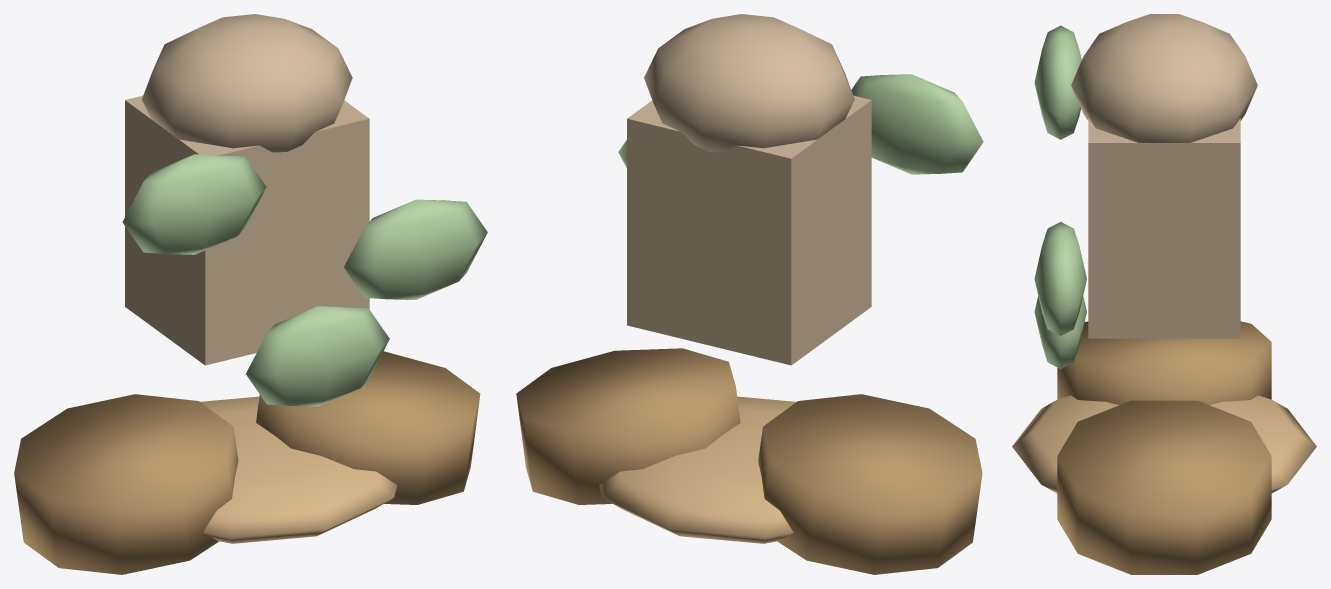
Rendered from stone_fist_young.fbx.
3 renders of one model, left to right at view 1: azimuth 30°, elevation 25°; view 2: azimuth 150°, elevation 25°; view 3: azimuth 270°, elevation 25°, orthographic. The views are drawn at different scales.
Parts seen in each view (by area): view 1: PLQ_stone_fist_young; view 2: PLQ_stone_fist_young; view 3: PLQ_stone_fist_young.
Boxes of the visible parts, x1=… form: PLQ_stone_fist_young: x1=14, y1=14, x2=487, y2=574; PLQ_stone_fist_young: x1=516, y1=14, x2=983, y2=574; PLQ_stone_fist_young: x1=1012, y1=14, x2=1316, y2=574.
Size of the model in its own units: 38.94 by 41.23 by 25.18.
